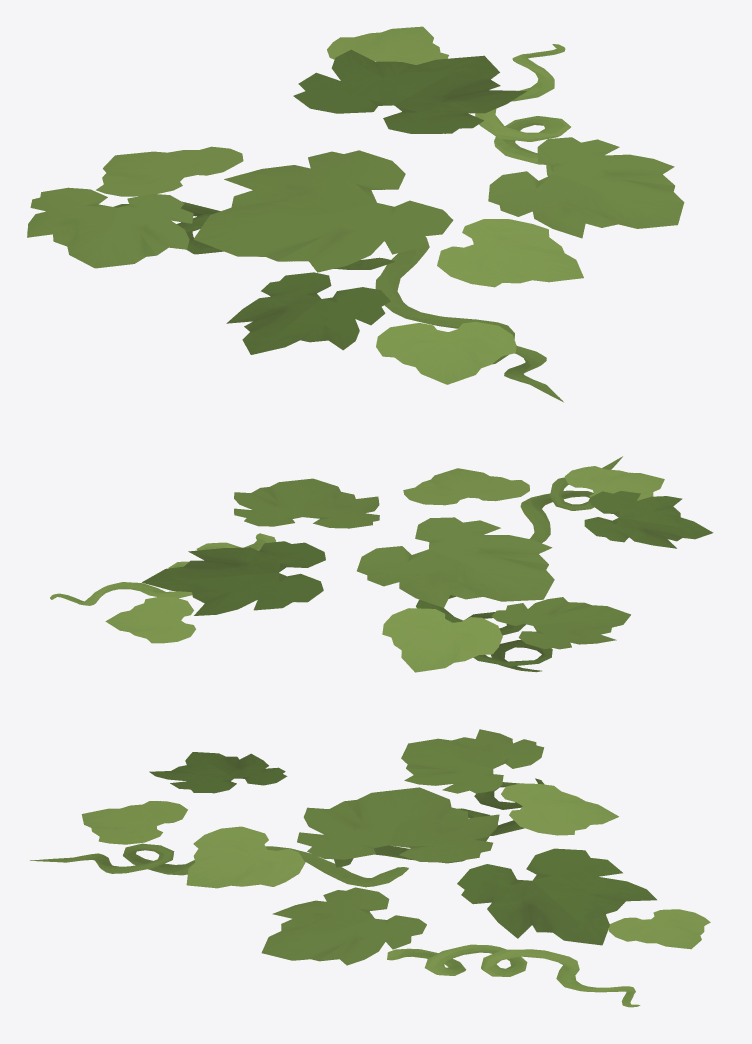
The model's file is SM_Env_Pumpkin_Leaves_02.fbx.
3 views of the same model, one above another, from view 1: azimuth 30°, elevation 25°; view 2: azimuth 150°, elevation 25°; view 3: azimuth 270°, elevation 25° (orthographic). The views are drawn at different scales.
Visible parts, largest first — view 1: SM_Env_Pumpkin_Leaves_02; view 2: SM_Env_Pumpkin_Leaves_02; view 3: SM_Env_Pumpkin_Leaves_02.
Boxes of the visible parts, x1=… form: SM_Env_Pumpkin_Leaves_02: x1=27, y1=26, x2=684, y2=402; SM_Env_Pumpkin_Leaves_02: x1=50, y1=456, x2=713, y2=672; SM_Env_Pumpkin_Leaves_02: x1=30, y1=729, x2=710, y2=1007.
Bounding box in the file's own units: 305 × 21.06 × 320.
